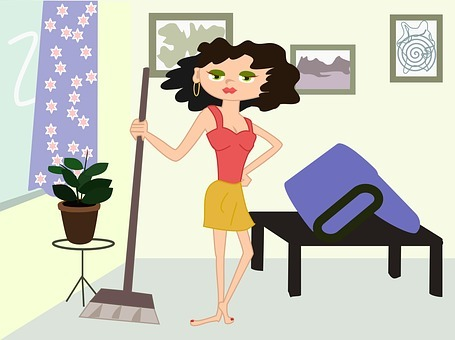diningtable: (246, 208, 445, 301)
person: (127, 33, 302, 328)
pottedplant: (44, 148, 112, 244)
